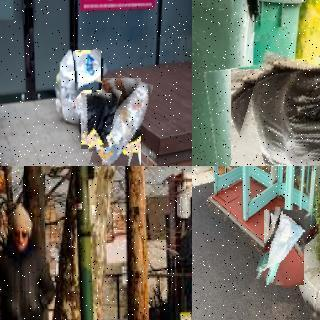Garbage: (217, 59, 320, 166), (95, 76, 147, 166), (259, 208, 309, 287), (77, 91, 116, 151), (74, 50, 102, 91)
